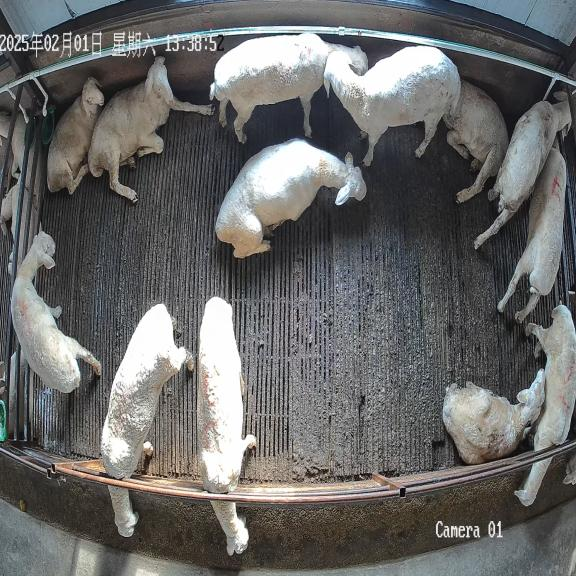drinking: (474, 92, 571, 249), (497, 137, 567, 323)
eating: (101, 304, 194, 537), (198, 297, 256, 555), (514, 304, 576, 506)
lying: (88, 56, 214, 202), (216, 138, 366, 258), (442, 369, 545, 464), (443, 80, 509, 203), (47, 77, 104, 194)
stand: (210, 34, 368, 143), (324, 46, 461, 167), (11, 231, 101, 393)
